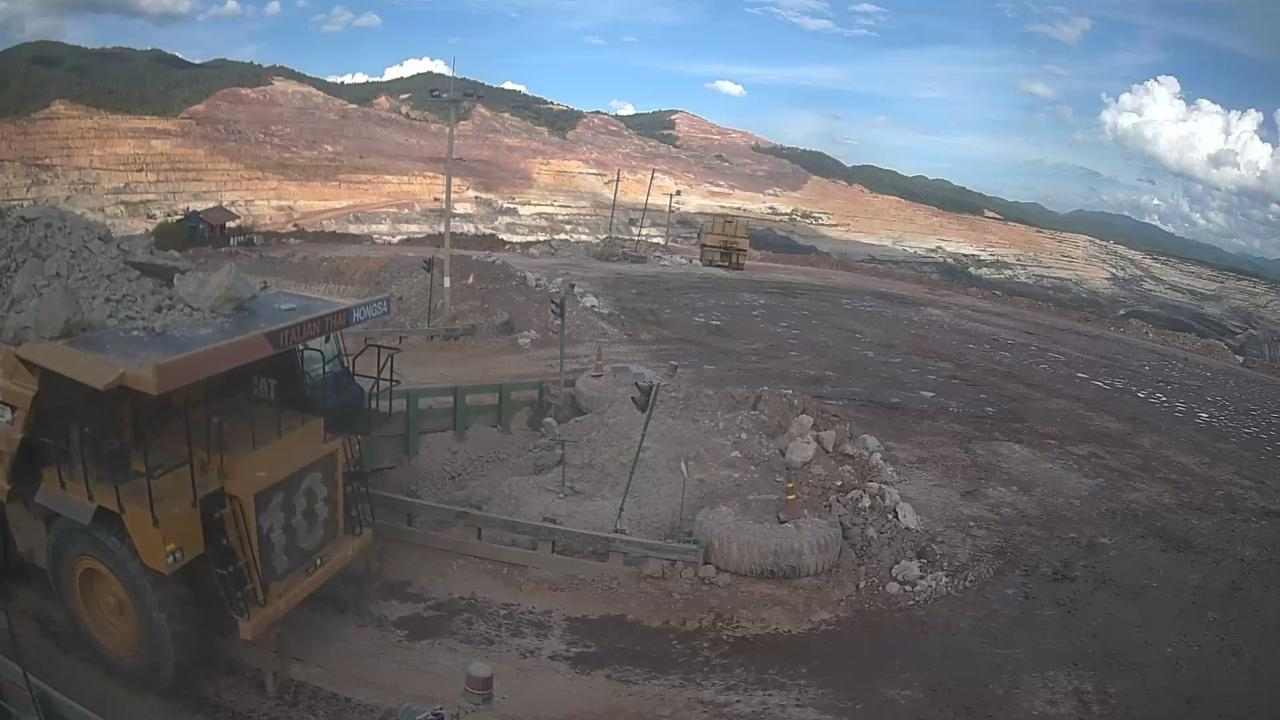front_number: (253, 470, 341, 574)
full_load: (11, 208, 260, 341)
mining_truck: (1, 199, 406, 696)
